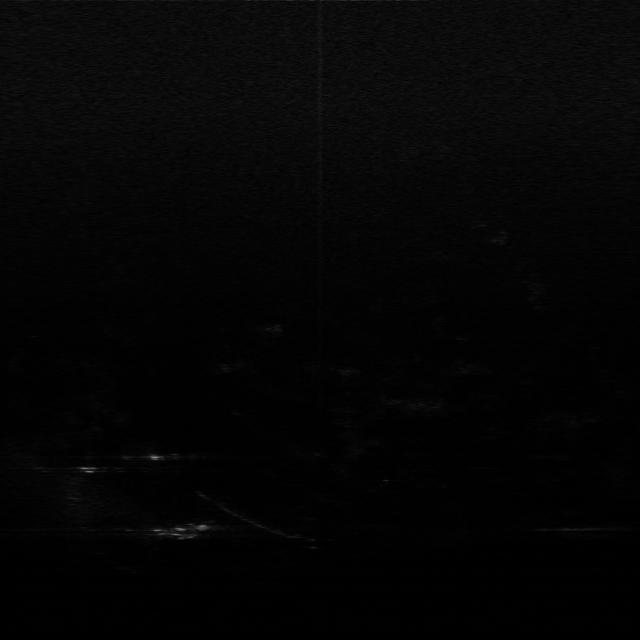rov: (152, 518, 210, 543)
